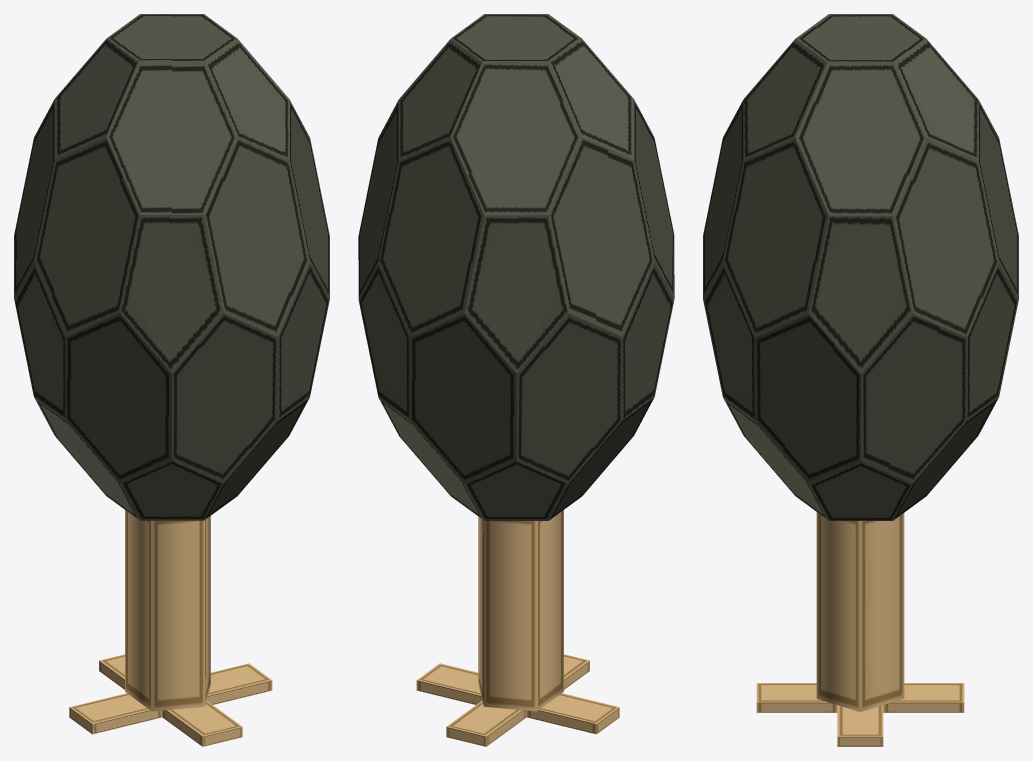
Rendered from Tree018.FBX.
3 renders of one model, left to right at view 1: azimuth 30°, elevation 25°; view 2: azimuth 150°, elevation 25°; view 3: azimuth 270°, elevation 25°, orthographic.
Parts seen in each view (by area): view 1: tree018; view 2: tree018; view 3: tree018.
Part boxes in pixels (left/top/right/bottom): tree018: left=14, top=14, right=329, bottom=746; tree018: left=358, top=14, right=674, bottom=746; tree018: left=703, top=14, right=1018, bottom=746.
Bounding box in the file's own units: 138 × 318 × 137.
1 material, 1 textured.
